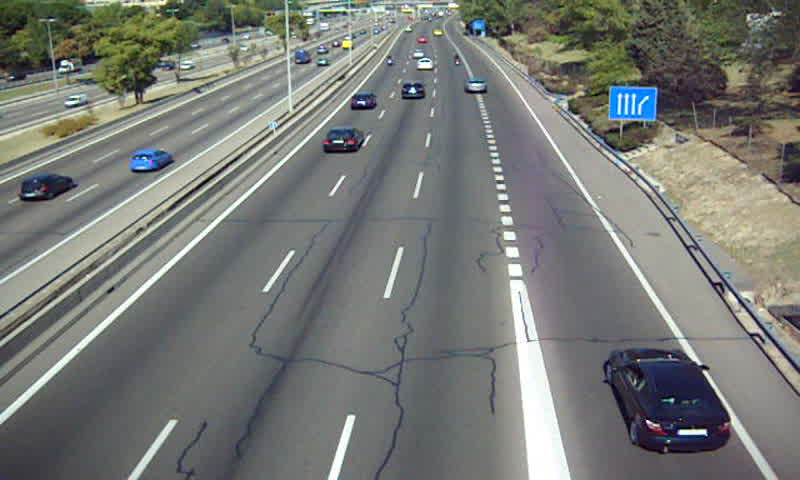car: (607, 347, 730, 451), (321, 128, 362, 154), (400, 80, 425, 100), (350, 91, 375, 110), (464, 78, 488, 94), (415, 56, 434, 70)
motorcycle: (387, 52, 395, 70)
